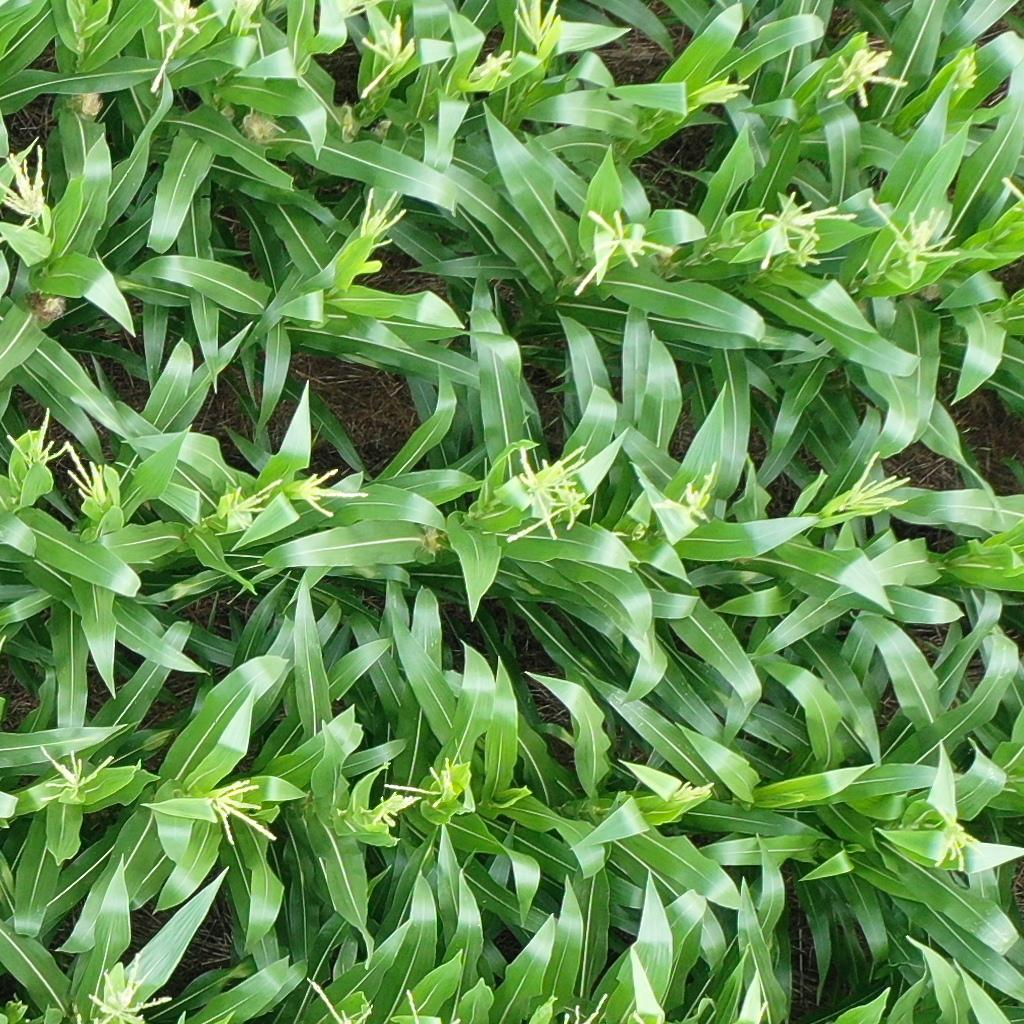Tassel: (573, 205, 676, 297), (757, 187, 857, 270), (508, 442, 590, 541), (867, 195, 964, 275), (146, 1, 221, 93), (87, 951, 173, 1024), (824, 47, 911, 108), (2, 141, 54, 239), (354, 15, 415, 97), (206, 773, 277, 843), (839, 448, 911, 517), (2, 402, 67, 474), (292, 466, 375, 520), (36, 741, 113, 797), (384, 754, 459, 808), (215, 477, 282, 531), (305, 974, 377, 1024), (62, 438, 111, 508), (356, 182, 405, 251), (936, 813, 981, 875), (365, 786, 421, 833), (678, 459, 720, 515), (513, 1, 561, 46), (693, 78, 753, 105), (559, 991, 608, 1023), (468, 49, 513, 79), (949, 54, 980, 97), (229, 1, 264, 38), (667, 777, 714, 800)
